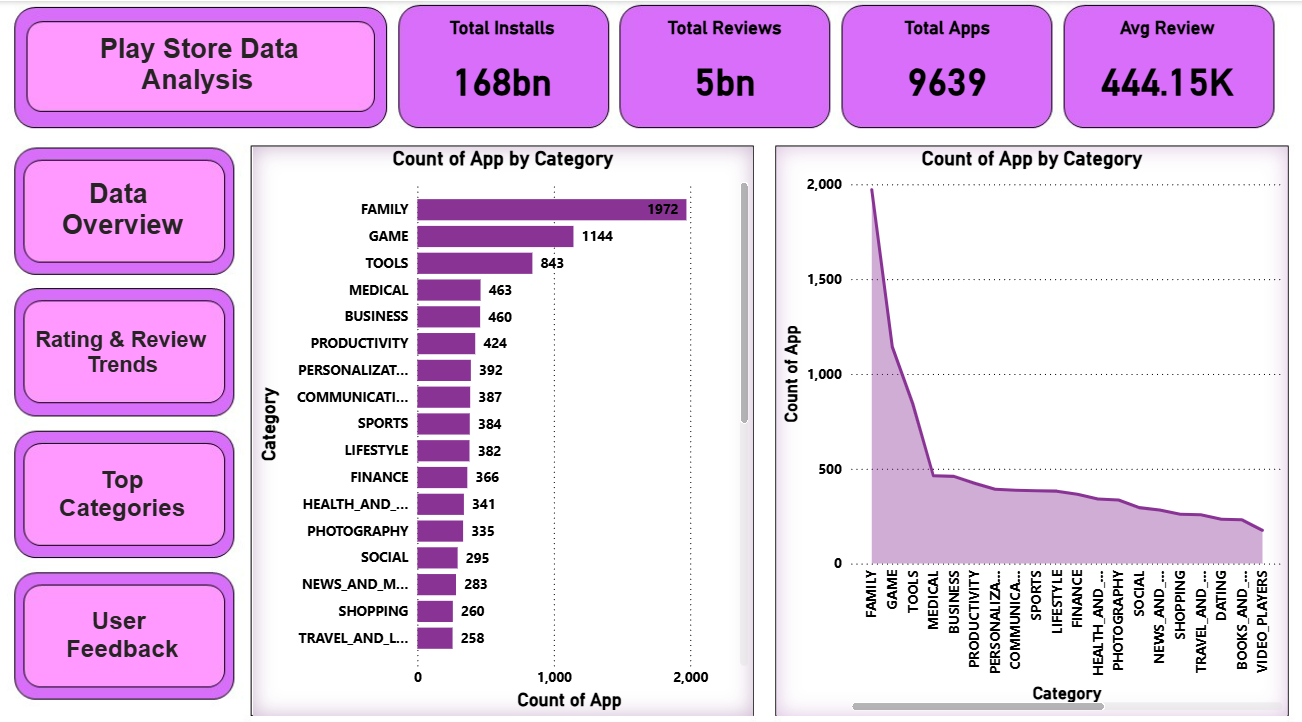

This screenshot's page, from the dashboard's own definition file:
{"tool":"powerbi","page":{"name":"Page 1","canvas":[1280,720],"ordinal":0},"visuals":[{"type":"clusteredBarChart","fields":{"Category":["Play Store Data.Category"],"Y":["CountNonNull(Play Store Data.App)"]},"box":[248.7,143.1,491.6,558.1],"z":0},{"type":"areaChart","fields":{"Category":["Play Store Data.Category"],"Y":["CountNonNull(Play Store Data.App)"]},"box":[763.4,143.1,501.7,558.1],"z":1000},{"type":"card","title":"Total Installs","fields":{"Values":["Play Store Data.Total Installs"]},"box":[400.5,15.9,188,101.2],"z":2000},{"type":"card","title":"Total Reviews","fields":{"Values":["Play Store Data.Total Reviews"]},"box":[618.8,15.9,188,101.2],"z":3000},{"type":"card","title":"Total Apps","fields":{"Values":["Play Store Data.No Of Apps"]},"box":[837.1,15.9,188,101.2],"z":4000},{"type":"card","title":"Avg Review","fields":{"Values":["Play Store Data.Avg Review"]},"box":[1052.5,15.9,188,101.2],"z":5000},{"type":"textbox","box":[40.5,27.5,312.3,76.6],"z":6000},{"type":"textbox","box":[30.4,169.2,180.7,76.6],"z":7000},{"type":"textbox","box":[30.4,315.2,180.7,66.5],"z":8000},{"type":"textbox","box":[30.4,451.1,180.7,78.1],"z":9000},{"type":"textbox","box":[30.4,589.9,180.7,79.5],"z":10000}]}

Visuals, with their boxes in screenshot pixels (x1, y1, x2, y2), scaled from the page's 1280x720 canvas onto the 1302x722 screenshot:
clusteredBarChart - Play Store Data.Category x CountNonNull(Play Store Data.App): bbox=[253, 143, 753, 703]
areaChart - Play Store Data.Category x CountNonNull(Play Store Data.App): bbox=[777, 143, 1287, 703]
"Total Installs" card: bbox=[407, 16, 599, 117]
"Total Reviews" card: bbox=[629, 16, 821, 117]
"Total Apps" card: bbox=[851, 16, 1043, 117]
"Avg Review" card: bbox=[1071, 16, 1262, 117]
textbox: bbox=[41, 28, 359, 104]
textbox: bbox=[31, 170, 215, 246]
textbox: bbox=[31, 316, 215, 383]
textbox: bbox=[31, 452, 215, 531]
textbox: bbox=[31, 592, 215, 671]
